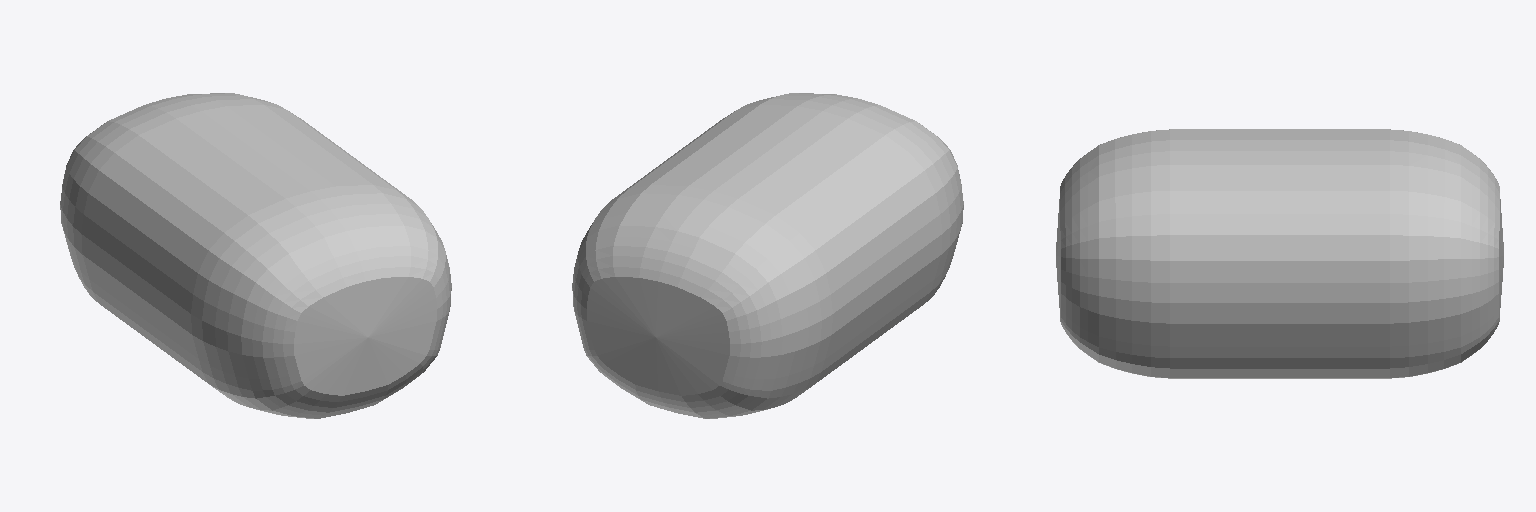
The model's file is snak_seg2.obj.
The picture shows the model from 3 angles: view 1: azimuth 30°, elevation 25°; view 2: azimuth 150°, elevation 25°; view 3: azimuth 270°, elevation 25°; orthographic projection.
Visible parts, largest first — view 1: Body_segment; view 2: Body_segment; view 3: Body_segment.
Part boxes in pixels (x1,y1,x2,y2): Body_segment: (60,93,451,418); Body_segment: (572,93,963,418); Body_segment: (1056,129,1503,378).
Size of the model in its own units: 0.9666 by 0.8083 by 1.57.